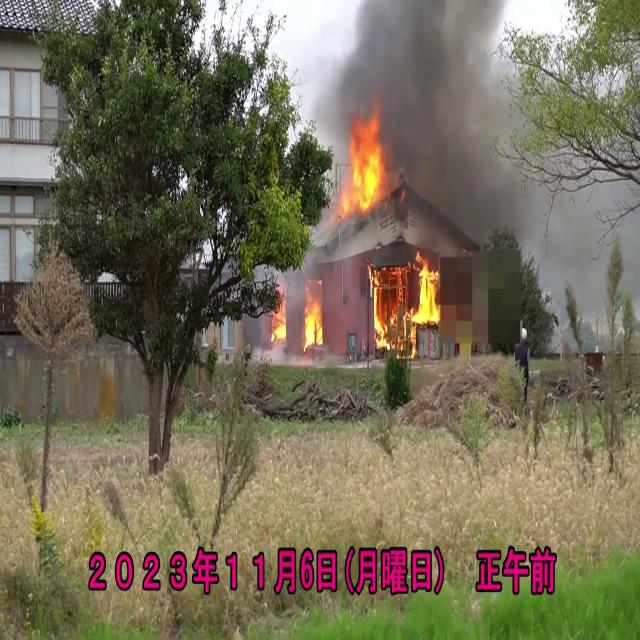Fire: (367, 249, 446, 354), (336, 108, 389, 220), (270, 290, 326, 357)
Smoke: (328, 0, 538, 242)
